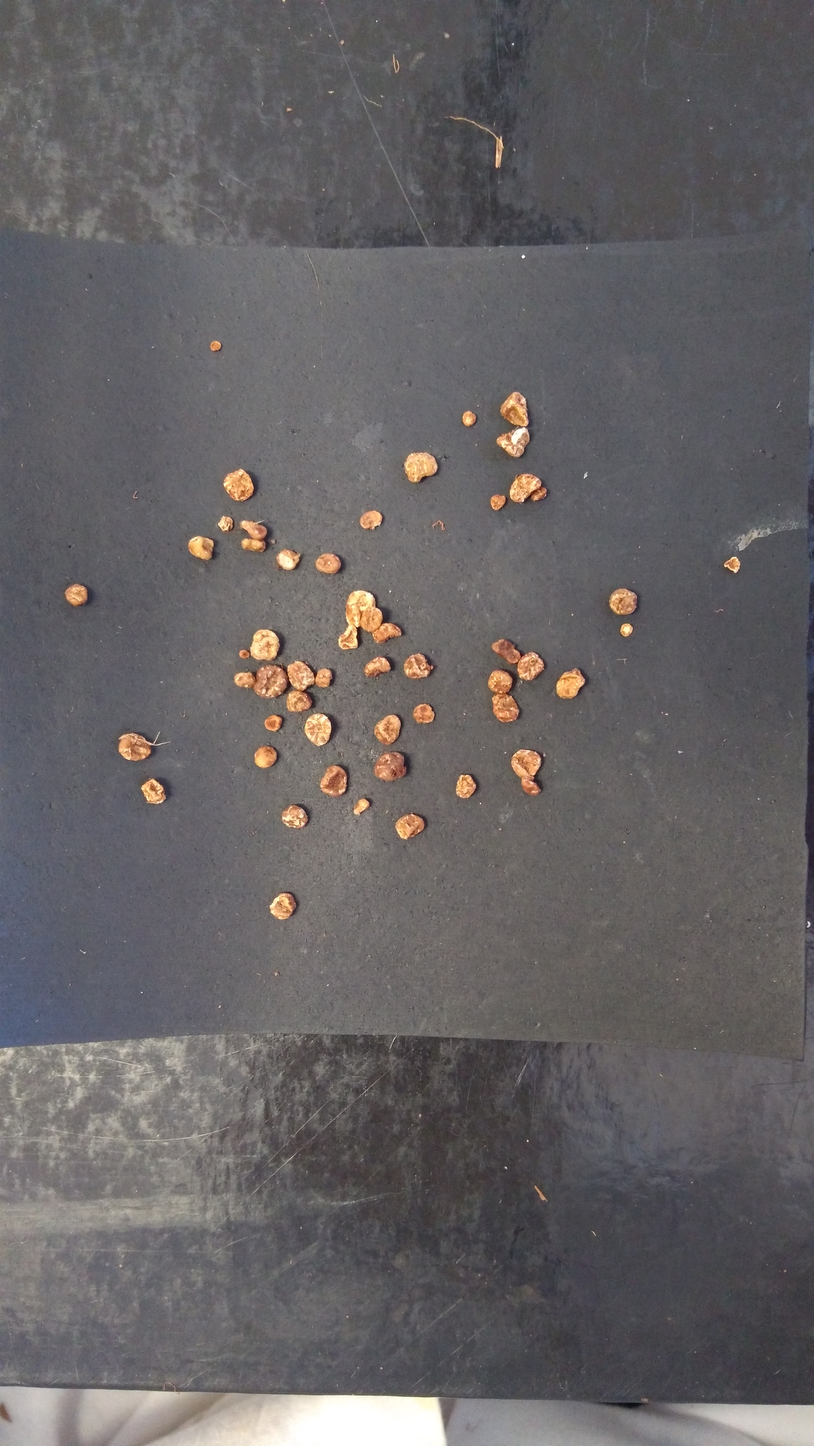nodule: (507, 746, 548, 798), (297, 709, 343, 751), (245, 622, 285, 663), (496, 424, 540, 460), (220, 465, 258, 506), (402, 450, 444, 486), (496, 389, 534, 428), (370, 748, 410, 785), (315, 759, 352, 799), (252, 662, 291, 699), (344, 588, 378, 630), (551, 666, 587, 705), (370, 708, 405, 748), (137, 775, 175, 810), (277, 799, 316, 833), (390, 809, 429, 843), (115, 730, 156, 762), (282, 658, 320, 692), (402, 650, 440, 684), (507, 472, 545, 504), (451, 769, 485, 804), (266, 890, 301, 924), (513, 648, 547, 683), (365, 619, 409, 646), (488, 692, 523, 724), (607, 584, 640, 617), (488, 636, 524, 666), (183, 534, 218, 562), (281, 688, 318, 714), (485, 664, 515, 696), (253, 741, 281, 775), (61, 578, 92, 608), (336, 620, 363, 654), (356, 505, 387, 534), (227, 663, 260, 690), (313, 552, 350, 575), (362, 655, 394, 681), (412, 699, 439, 726), (358, 605, 385, 632), (310, 665, 336, 692), (274, 548, 304, 571), (240, 516, 267, 541), (262, 711, 288, 736), (719, 552, 744, 578), (459, 406, 482, 433), (351, 795, 373, 819), (239, 536, 267, 554), (488, 494, 509, 515), (617, 619, 637, 641), (205, 339, 228, 357), (529, 482, 549, 502), (216, 512, 235, 533), (238, 646, 251, 659)
